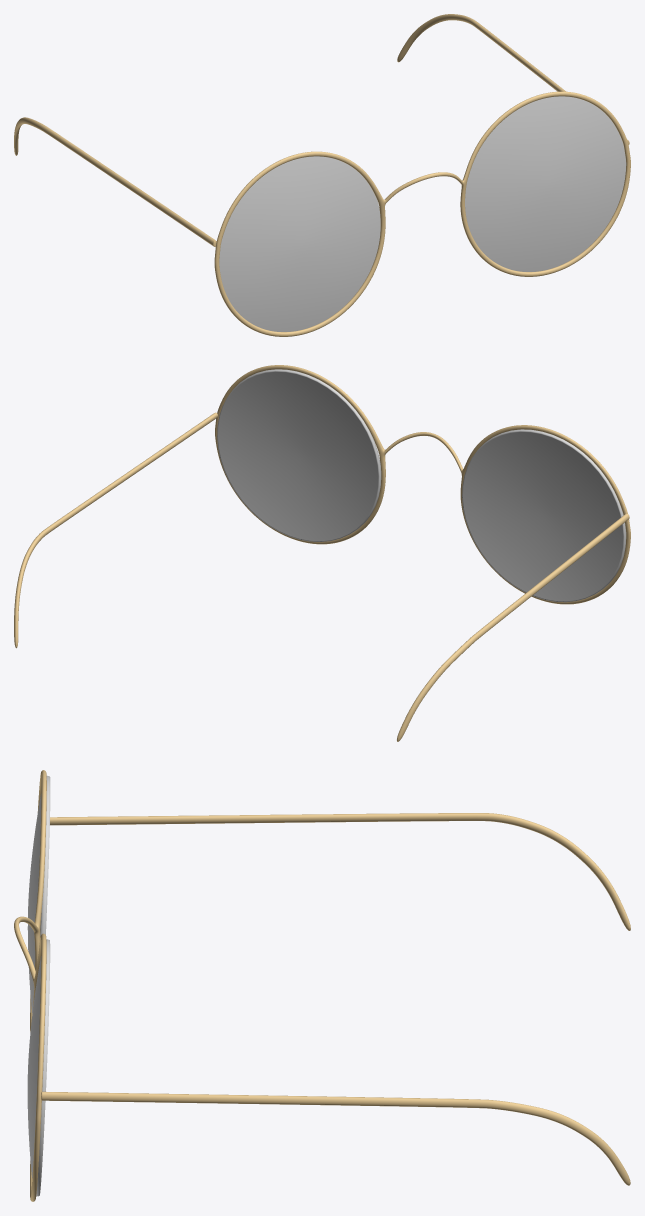
The model's file is Stylish.glb.
The picture shows the model from 3 angles, top to bottom: view 1: azimuth 30°, elevation 25°; view 2: azimuth 150°, elevation 25°; view 3: azimuth 270°, elevation 25°; orthographic projection. The views are drawn at different scales.
Parts seen in each view (by area): view 1: glasses lenses.001, glasses frame.001; view 2: glasses lenses.001, glasses frame.001; view 3: glasses frame.001, glasses lenses.001.
Boxes of the visible parts, box(x1,y1,x2,y2) form: glasses lenses.001: box(219, 96, 626, 331); glasses frame.001: box(14, 14, 630, 336); glasses lenses.001: box(217, 369, 626, 602); glasses frame.001: box(14, 365, 630, 741); glasses frame.001: box(14, 770, 630, 1201); glasses lenses.001: box(27, 775, 50, 1196).
Bounding box in the file's own units: 0.1315 × 0.0514 × 0.1181.
